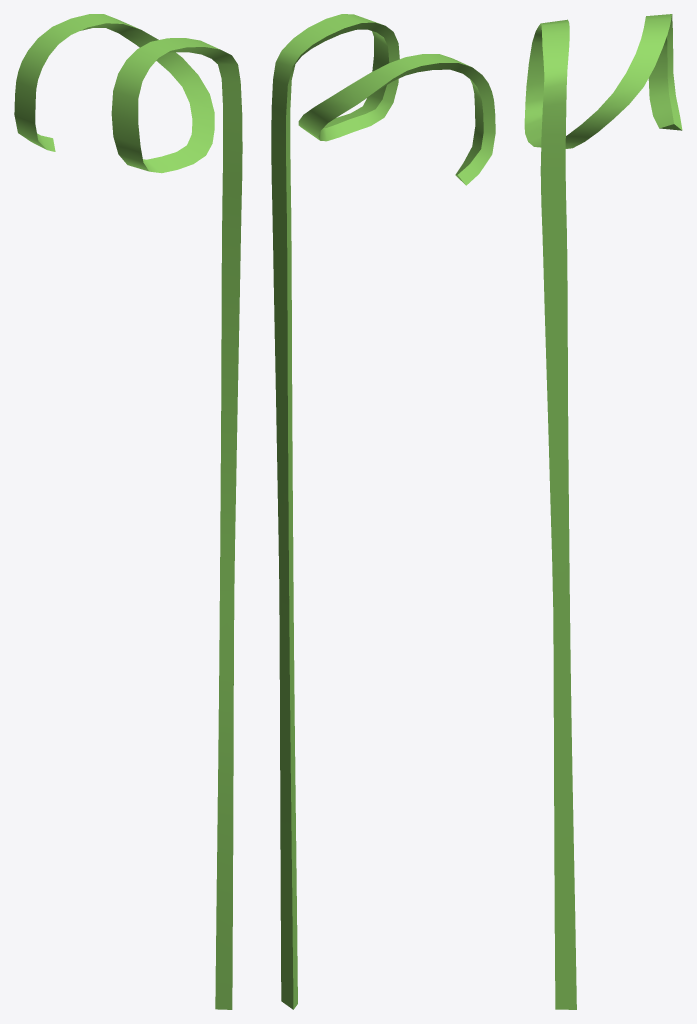
Rendered from lianas_C.fbx.
3 renders of one model, left to right at view 1: azimuth 30°, elevation 25°; view 2: azimuth 210°, elevation 25°; view 3: azimuth 270°, elevation 25°, orthographic. The views are drawn at different scales.
Parts seen in each view (by area): view 1: liana_C_thick, liana_C; view 2: liana_C_thick, liana_C; view 3: liana_C_thick, liana_C.
Boxes of the visible parts, x1,y1,x2,y2 form: liana_C_thick: [15, 14, 242, 1009]; liana_C: [14, 14, 233, 684]; liana_C_thick: [271, 14, 495, 1009]; liana_C: [271, 18, 465, 1008]; liana_C_thick: [524, 14, 682, 1009]; liana_C: [537, 15, 671, 1009].
Bounding box in the file's own units: 25.79 × 152 × 22.79.
